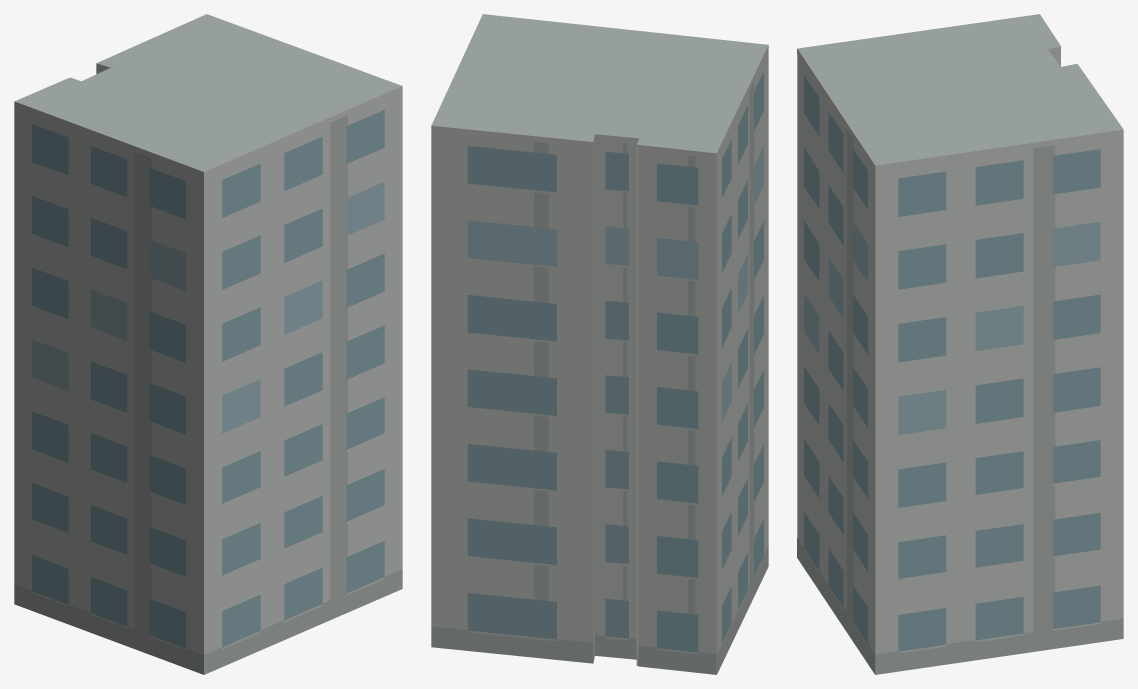
Rendered from survey-upis-32952685.glb.
The picture shows the model from 3 angles, left to right: view 1: azimuth 30°, elevation 25°; view 2: azimuth 150°, elevation 25°; view 3: azimuth 270°, elevation 25°; orthographic projection. The views are drawn at different scales.
Visible parts, largest first — view 1: survey-upis-32952685.tmp; view 2: survey-upis-32952685.tmp; view 3: survey-upis-32952685.tmp.
Part boxes in pixels (x1,y1,x2,y2): survey-upis-32952685.tmp: (14,14,402,674); survey-upis-32952685.tmp: (431,14,768,674); survey-upis-32952685.tmp: (797,14,1123,674).
Bounding box in the file's own units: 14.06 × 22 × 12.8.
